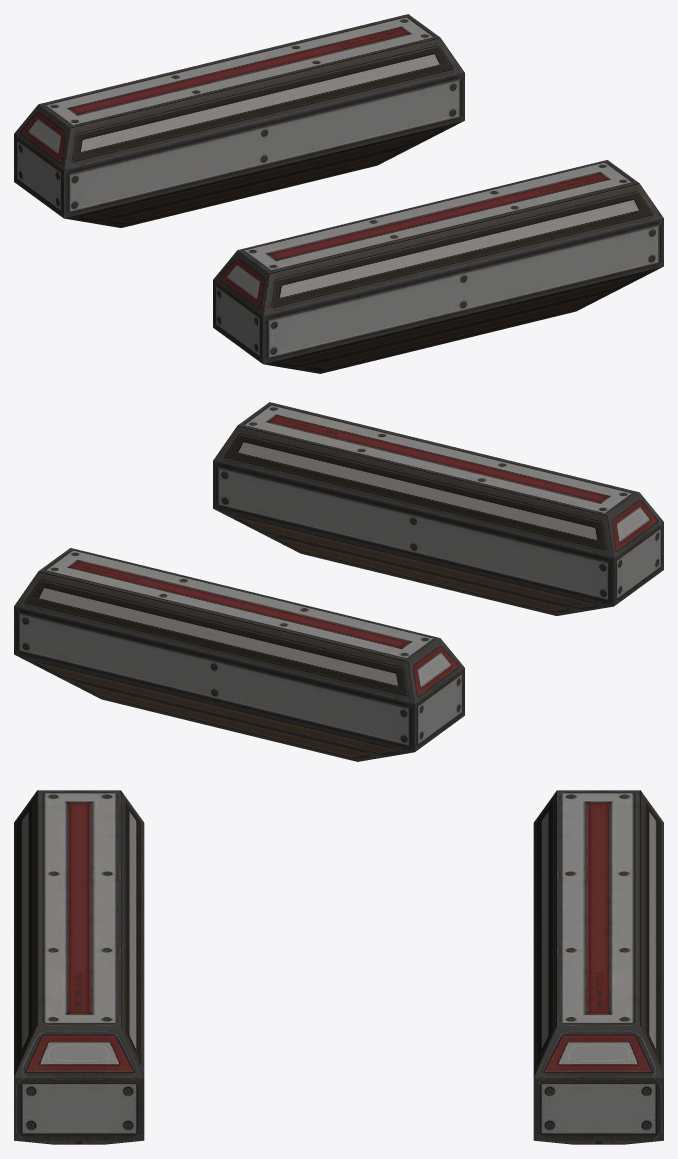
The model's file is accessories_landing_floaters.FBX.
3 views of the same model, one above another, from view 1: azimuth 30°, elevation 25°; view 2: azimuth 150°, elevation 25°; view 3: azimuth 270°, elevation 25° (orthographic). The views are drawn at different scales.
Visible parts, largest first — view 1: Object012, Object005; view 2: Object005, Object012; view 3: Object005, Object012.
Boxes of the visible parts, box(x1,y1,x2,y2) form: Object012: box(213, 160, 663, 373); Object005: box(14, 14, 464, 227); Object005: box(14, 548, 464, 761); Object012: box(213, 402, 663, 615); Object005: box(533, 790, 663, 1144); Object012: box(14, 790, 144, 1144).
Bounding box in the file's own units: 45.65 × 12.92 × 49.12.
